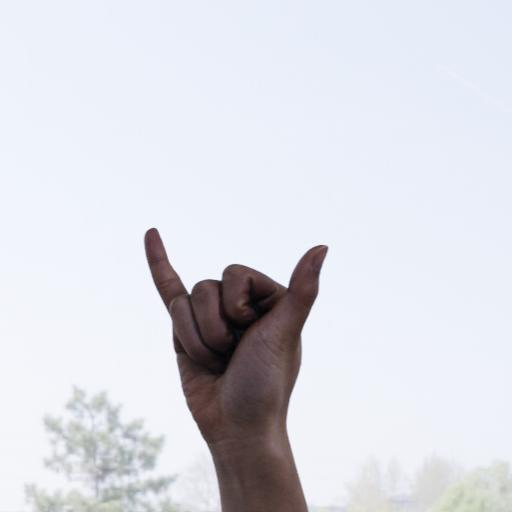Y: (138, 220, 340, 454)
